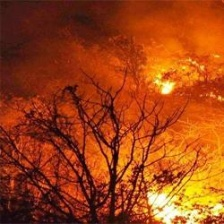fire: (134, 67, 223, 224)
